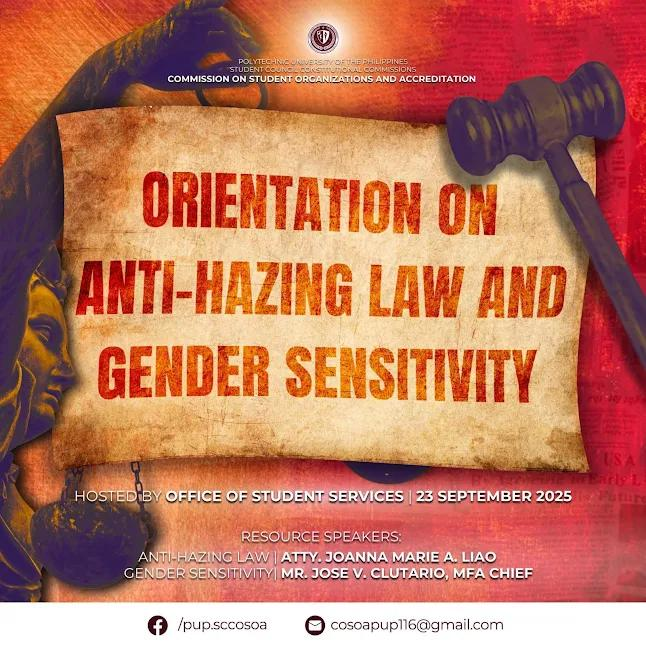embellishment: (144, 613, 171, 638), (303, 613, 329, 637)
logo: (304, 19, 341, 56)
text: (72, 253, 572, 324), (93, 342, 548, 409), (137, 164, 510, 240), (120, 547, 538, 584), (70, 482, 578, 507), (164, 56, 483, 86), (237, 525, 409, 548), (327, 616, 506, 636), (174, 613, 269, 635)
underlay: (52, 105, 591, 473), (0, 0, 268, 602), (446, 62, 645, 370), (568, 135, 596, 198)
